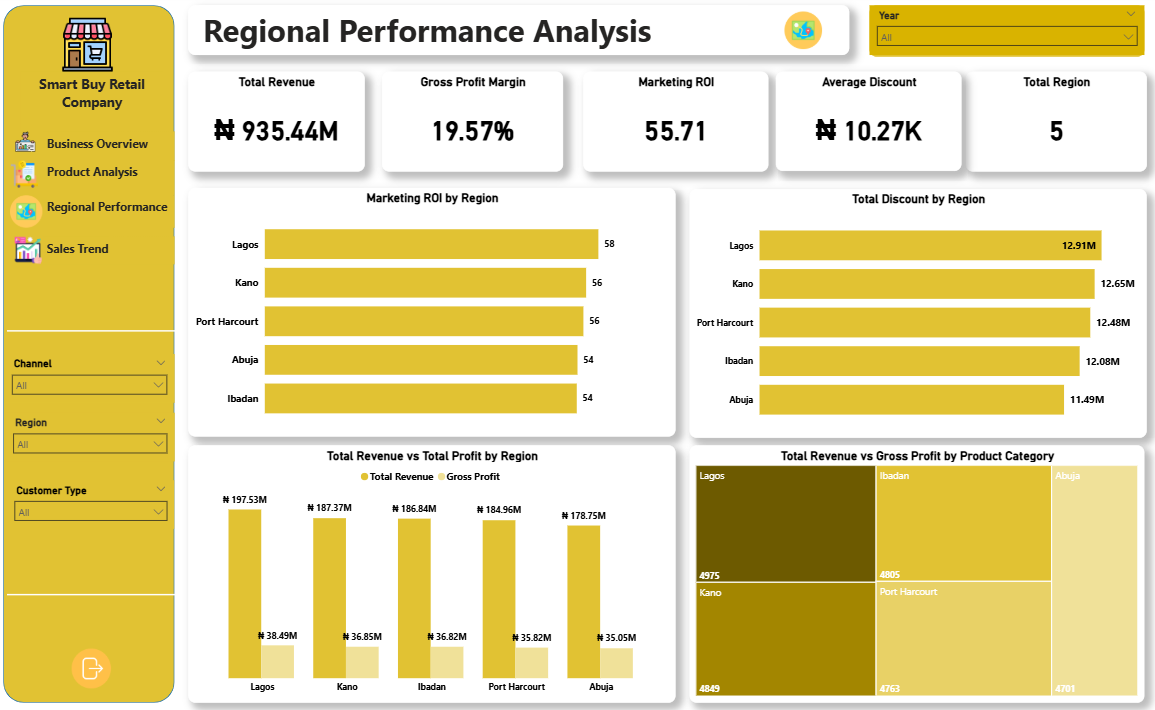

What the dashboard file says about the page in this screenshot:
{"tool":"powerbi","page":{"name":"Regional Analysis","canvas":[1600,1000],"ordinal":2},"visuals":[{"type":"card","title":"Total Revenue","fields":{"Values":["Measure_Table.Total Revenue"]},"box":[264.3,107.1,243.6,138.2],"z":0},{"type":"card","title":"Gross Profit Margin","fields":{"Values":["Measure_Table.Gross Profit Margin"]},"box":[532.1,107.1,250.5,138.2],"z":1000},{"type":"card","title":"Marketing ROI","fields":{"Values":["Measure_Table.Marketing ROI"]},"box":[810.3,107.1,255.7,138.2],"z":2000},{"type":"card","title":"Total Region","fields":{"Values":["Measure_Table.Total Region"]},"box":[1339,107.1,250.5,138.2],"z":3000},{"type":"clusteredBarChart","title":"Marketing ROI by Region","fields":{"Category":["Region.Region"],"Y":["Measure_Table.Marketing ROI"]},"box":[264.3,267.8,673.8,343.8],"z":5000},{"type":"clusteredBarChart","fields":{"Category":["Region.Region"],"Y":["Measure_Table.Total Discount"]},"box":[957.2,269.5,632.3,343.8],"z":6000},{"type":"shape","box":[8.6,15.5,236.7,964.1],"z":7000},{"type":"shape","box":[264.3,15.5,914,69.1],"z":8000},{"type":"shape","box":[1205.9,15.5,380.1,70.8],"z":9000},{"type":"textbox","box":[32.8,107.1,197,82.9],"z":10000},{"type":"image","box":[63.9,32.8,122.7,74.3],"z":11000},{"type":"image","box":[69.1,901.9,122.7,60.5],"z":12000},{"type":"shape","box":[13.8,758.5,236.7,143.4],"z":13000},{"type":"slicer","fields":{"Values":["Channel.Channel"]},"box":[12.1,497.6,236.7,67.4],"z":14000},{"type":"slicer","fields":{"Values":["Customer.Customer_Type"]},"box":[13.8,672.1,236.7,67.4],"z":15000},{"type":"slicer","fields":{"Values":["Region.Region"]},"box":[12.1,578.8,236.7,67.4],"z":16000},{"type":"shape","box":[13.8,419.8,236.7,91.6],"z":17000},{"type":"textbox","box":[63.9,190,181.4,39.7],"z":18000},{"type":"textbox","box":[63.9,229.8,181.4,48.4],"z":19000},{"type":"textbox","box":[63.9,278.2,181.4,44.9],"z":20000},{"type":"textbox","box":[63.9,335.2,181.4,38],"z":21000},{"type":"image","box":[13.8,190,50.1,27.6],"z":22000},{"type":"image","box":[1066,24.2,96.8,51.8],"z":23000},{"type":"image","box":[10.4,229.8,55.3,38],"z":24000},{"type":"image","box":[15.5,278.2,50.1,44.9],"z":25000},{"type":"image","box":[17.3,335.2,51.8,38],"z":26000},{"type":"clusteredColumnChart","title":"Total Revenue vs Total Profit by Region","fields":{"Y":["Measure_Table.Total Revenue","Measure_Table.Gross Profit"],"Category":["Region.Region"]},"box":[264.3,623.7,673.8,355.9],"z":27000},{"type":"treemap","title":"Total Revenue vs Gross Profit by Product Category","fields":{"Values":["Measure_Table.Total_Quantity"],"Group":["Region.Region"]},"box":[957.2,623.7,628.9,355.9],"z":28000},{"type":"textbox","box":[279.9,15.5,758.5,70.8],"z":29000},{"type":"slicer","fields":{"Values":["DateTable.Year"]},"box":[1205.9,15.5,380.1,69.1],"z":29001},{"type":"card","title":"Average Discount","fields":{"Values":["Measure_Table.Average Discount"]},"box":[1076.8,107.1,257.1,137.5],"z":29002}]}

Visuals, with their boxes on the page's 1600x1000 design canvas (x1, y1, x2, y2). These are canvas units, not pixel positions in the 1155x710 screenshot, which may show the page scaled, cropped or inside an application window:
"Total Revenue" card: [left=264, top=107, right=508, bottom=245]
"Gross Profit Margin" card: [left=532, top=107, right=783, bottom=245]
"Marketing ROI" card: [left=810, top=107, right=1066, bottom=245]
"Total Region" card: [left=1339, top=107, right=1590, bottom=245]
"Marketing ROI by Region" clusteredBarChart: [left=264, top=268, right=938, bottom=612]
clusteredBarChart - Region.Region x Measure_Table.Total Discount: [left=957, top=270, right=1590, bottom=613]
shape: [left=9, top=16, right=245, bottom=980]
shape: [left=264, top=16, right=1178, bottom=85]
shape: [left=1206, top=16, right=1586, bottom=86]
textbox: [left=33, top=107, right=230, bottom=190]
image: [left=64, top=33, right=187, bottom=107]
image: [left=69, top=902, right=192, bottom=962]
shape: [left=14, top=758, right=250, bottom=902]
slicer - Channel.Channel: [left=12, top=498, right=249, bottom=565]
slicer - Customer.Customer_Type: [left=14, top=672, right=250, bottom=740]
slicer - Region.Region: [left=12, top=579, right=249, bottom=646]
shape: [left=14, top=420, right=250, bottom=511]
textbox: [left=64, top=190, right=245, bottom=230]
textbox: [left=64, top=230, right=245, bottom=278]
textbox: [left=64, top=278, right=245, bottom=323]
textbox: [left=64, top=335, right=245, bottom=373]
image: [left=14, top=190, right=64, bottom=218]
image: [left=1066, top=24, right=1163, bottom=76]
image: [left=10, top=230, right=66, bottom=268]
image: [left=16, top=278, right=66, bottom=323]
image: [left=17, top=335, right=69, bottom=373]
"Total Revenue vs Total Profit by Region" clusteredColumnChart: [left=264, top=624, right=938, bottom=980]
"Total Revenue vs Gross Profit by Product Category" treemap: [left=957, top=624, right=1586, bottom=980]
textbox: [left=280, top=16, right=1038, bottom=86]
slicer - DateTable.Year: [left=1206, top=16, right=1586, bottom=85]
"Average Discount" card: [left=1077, top=107, right=1334, bottom=245]
